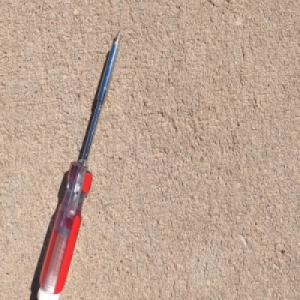Screwdriver: (35, 26, 123, 300)
